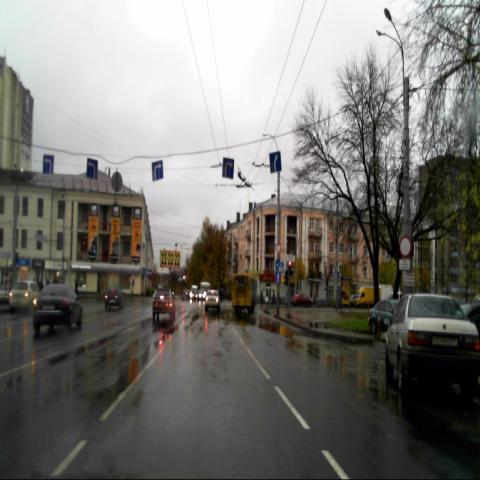3_2: (400, 236, 411, 256)
5_15_2: (222, 156, 234, 179)
